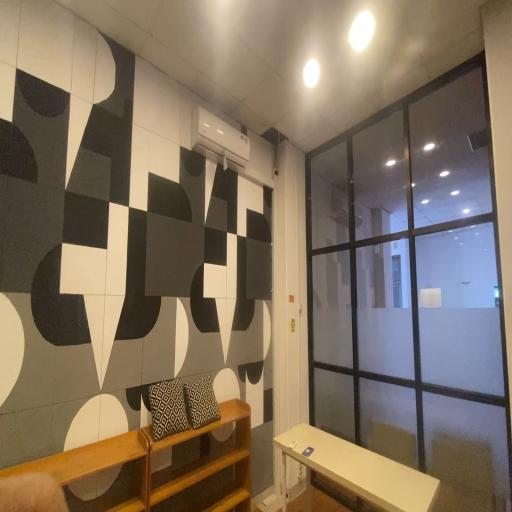AC: (190, 107, 254, 182)
bantal: (149, 376, 191, 446), (181, 373, 224, 434)
hp: (302, 445, 314, 458)
lemari: (140, 392, 253, 512)
meja: (270, 418, 444, 512)
remote AC: (288, 437, 298, 452)
